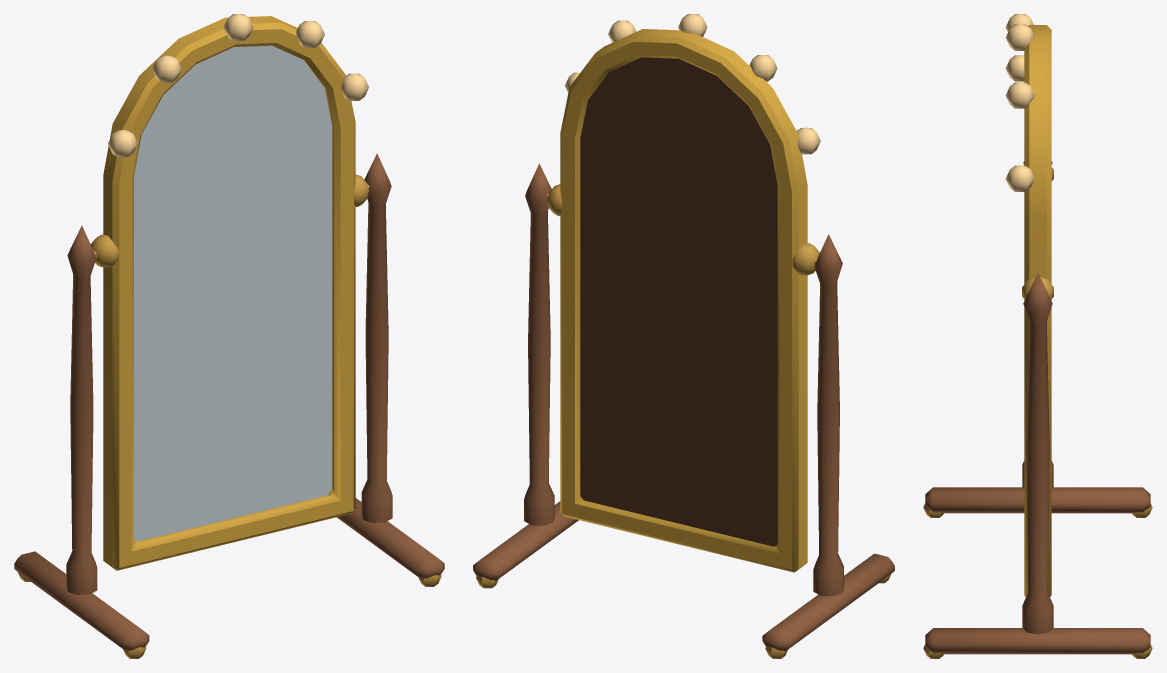
File: Lobby_Mirror.fbx
3 views of the same model, side by side, from view 1: azimuth 30°, elevation 25°; view 2: azimuth 150°, elevation 25°; view 3: azimuth 270°, elevation 25° (orthographic). The views are drawn at different scales.
Parts seen in each view (by area): view 1: Glass, Frame, Stand, Bulbs, Brass; view 2: Backing, Frame, Stand, Bulbs, Brass; view 3: Stand, Frame, Bulbs, Brass.
Part boxes in pixels (x1=…): Glass: x1=134, y1=45, x2=332, y2=541; Frame: x1=103, y1=16, x2=355, y2=570; Stand: x1=14, y1=153, x2=444, y2=651; Bulbs: x1=108, y1=14, x2=368, y2=157; Brass: x1=18, y1=174, x2=441, y2=658; Backing: x1=580, y1=57, x2=777, y2=546; Frame: x1=560, y1=29, x2=807, y2=572; Stand: x1=473, y1=163, x2=894, y2=651; Bulbs: x1=565, y1=14, x2=820, y2=154; Brass: x1=476, y1=184, x2=891, y2=658; Stand: x1=925, y1=161, x2=1150, y2=654; Frame: x1=1024, y1=25, x2=1051, y2=596; Bulbs: x1=1005, y1=14, x2=1034, y2=191; Brass: x1=923, y1=167, x2=1152, y2=658.
Bounding box in the file's own units: 372 × 635 × 234.
